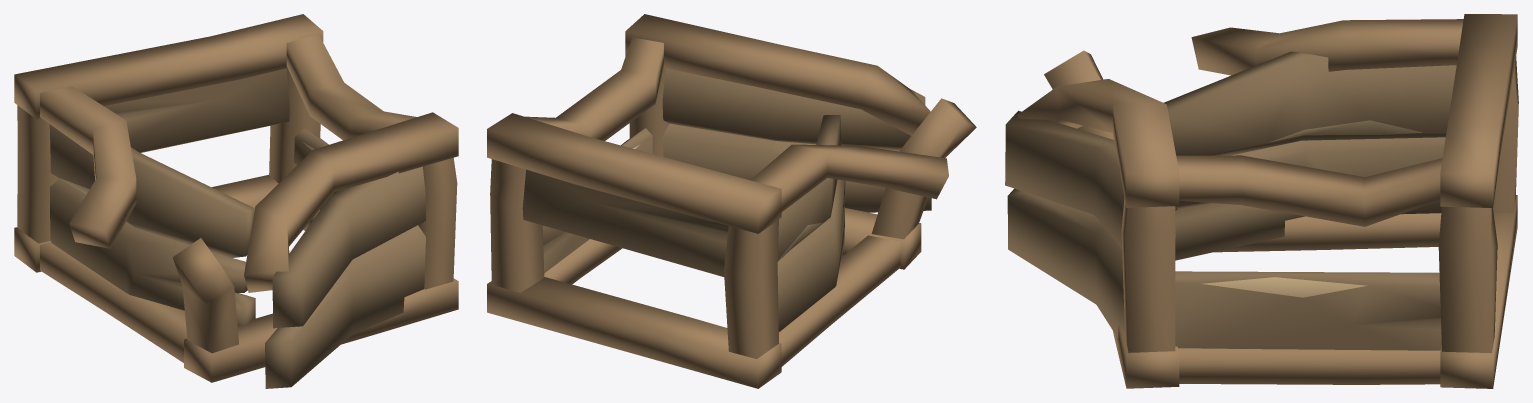
File: rpgpp_av_crate_02.gltf
3 views of the same model, side by side, from view 1: azimuth 30°, elevation 25°; view 2: azimuth 150°, elevation 25°; view 3: azimuth 270°, elevation 25° (orthographic). The views are drawn at different scales.
Visible parts, largest first — view 1: rpgpp_av_crate_02; view 2: rpgpp_av_crate_02; view 3: rpgpp_av_crate_02.
Boxes of the visible parts, <box> form: rpgpp_av_crate_02: <box>14,14,458,388</box>; rpgpp_av_crate_02: <box>487,14,976,388</box>; rpgpp_av_crate_02: <box>1005,14,1518,388</box>.
Size of the model in its own units: 0.00891 by 0.00449 by 0.00973.
Materials: 1 (1 with a texture image).
